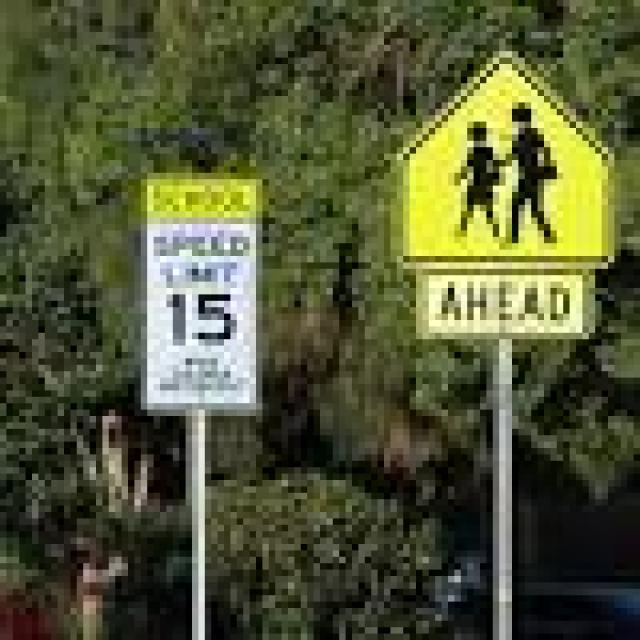speedLimit15: (147, 224, 256, 358)
